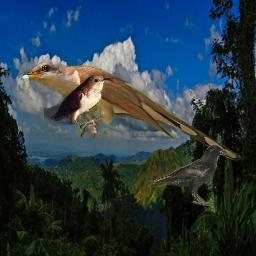Crow: (148, 144, 227, 206)
Cuckoo: (16, 61, 242, 161), (44, 74, 113, 124)
